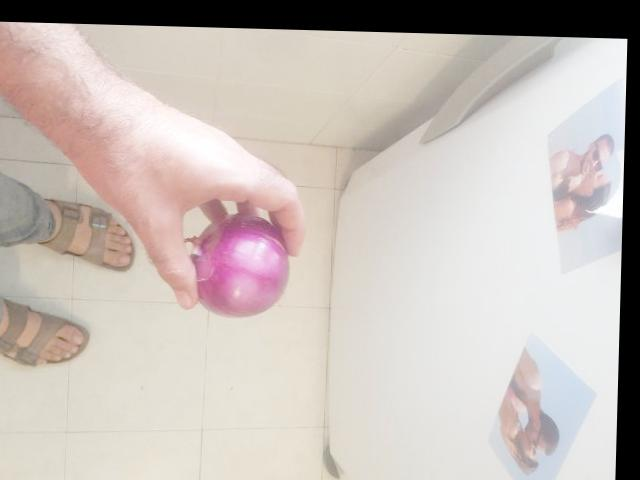onion: (193, 216, 300, 319)
